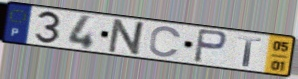3: (32, 10, 64, 46)
4: (67, 13, 96, 51)
C: (147, 25, 184, 59)
N: (106, 17, 150, 57)
P: (192, 27, 229, 65)
T: (237, 34, 263, 68)
